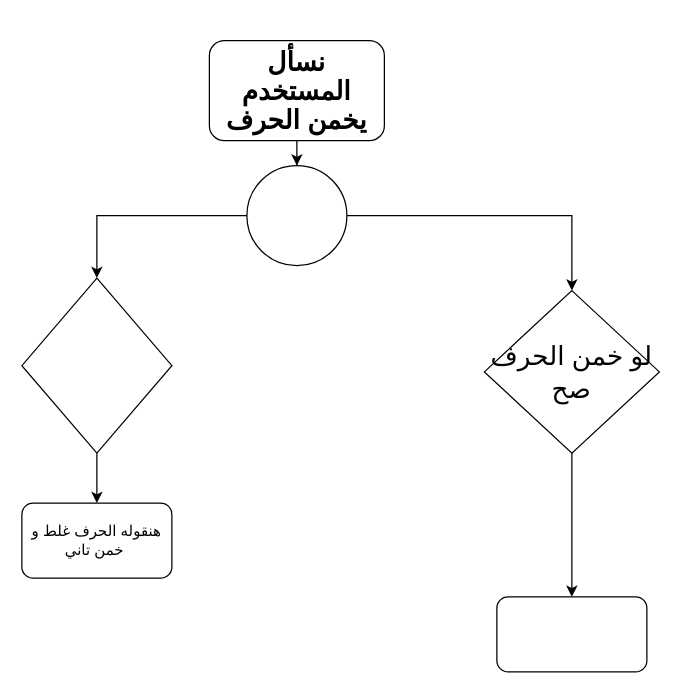
The diagram is 681 pixels wide and 694 high, and some of its shapes have lost their labels. Each missing label, with the centre of its shape:
if: point 296,215
لو خمن الرحف غلط: point 96,365
